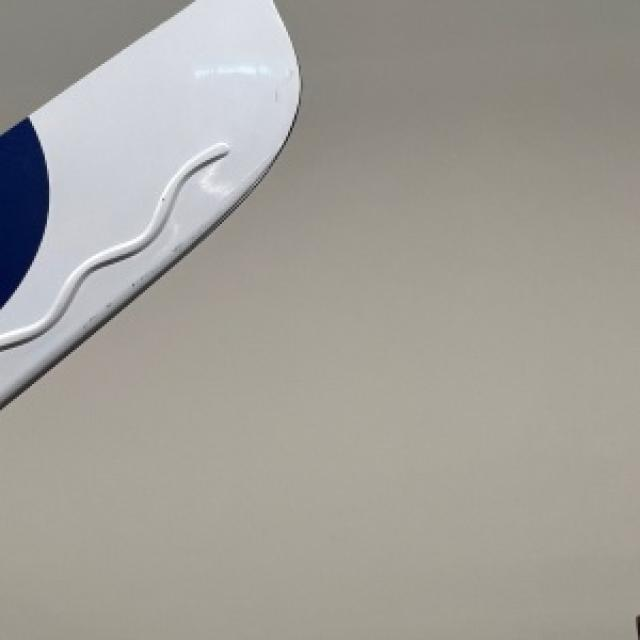healthy: (0, 0, 294, 403)
